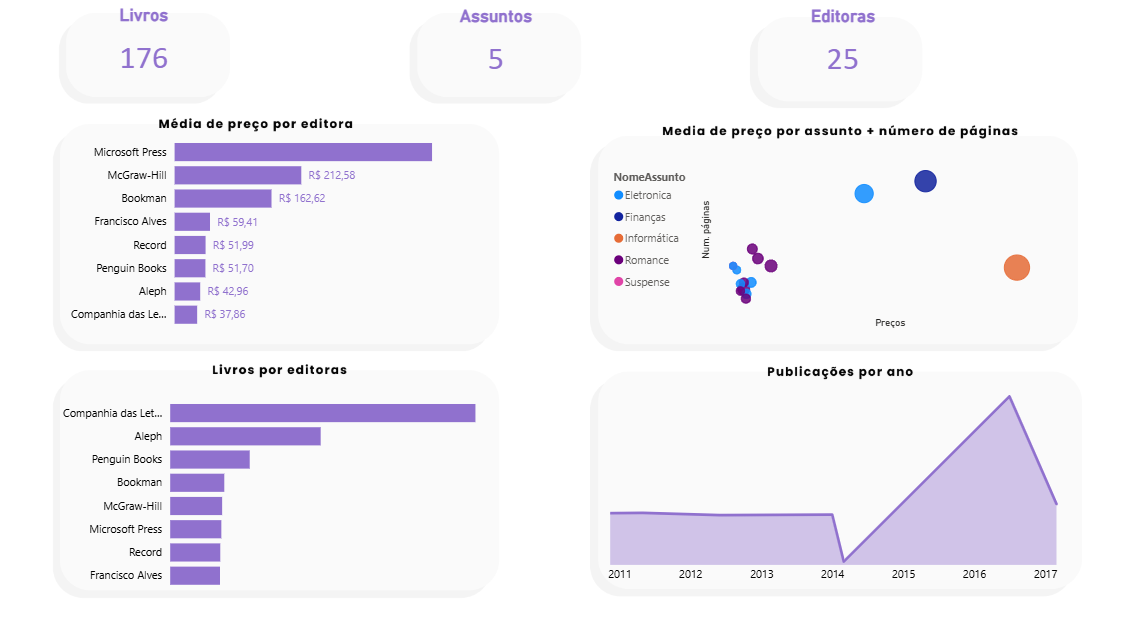

The dashboard page shown, as its layout file describes it:
{"tool":"powerbi","page":{"name":"Página 1","canvas":[1280,720],"ordinal":0},"visuals":[{"type":"barChart","fields":{"Y":["Avg(Livro.PrecoLivro)"],"Category":["Editora.NomeEditora"]},"box":[72.9,150.8,483.4,240.2],"z":0},{"type":"scatterChart","fields":{"Series":["Assunto.NomeAssunto"],"Size":["Sum(Livro.PrecoLivro)"],"X":["Livro.PrecoLivro"],"Y":["Livro.NumeroPaginas"]},"box":[681.8,150.9,510.9,227.3],"z":1000},{"type":"card","title":"Editoras","fields":{"Values":["CountNonNull(Editora.IdEditora)"]},"box":[849.2,15.8,186.7,89.2],"z":2000},{"type":"card","title":"Assuntos","fields":{"Values":["Count(Livro.IdAssunto)"]},"box":[463.3,15,186.7,90],"z":3000},{"type":"card","title":"Livros","fields":{"Values":["Min(Livro.NumeroPaginas)"]},"box":[72.7,14.5,186.4,90],"z":4000},{"type":"barChart","fields":{"Category":["Editora.NomeEditora"],"Y":["Sum(Livro.IdLivro)"]},"box":[57,434,500,240],"z":5000},{"type":"stackedAreaChart","fields":{"Category":["Livro.DataPub.Variation.Hierarquia de datas.Ano","Livro.DataPub.Variation.Hierarquia de datas.Mês"],"Y":["Sum(Livro.IdLivro)"]},"box":[676,426,522,240],"z":6000}]}

Visuals, with their boxes in screenshot pixels (x1, y1, x2, y2), scaled from the page's 1280x720 canvas onto the 1142x632 screenshot:
barChart - Avg(Livro.PrecoLivro) x Editora.NomeEditora: detection(65, 132, 496, 343)
scatterChart - Assunto.NomeAssunto x Sum(Livro.PrecoLivro): detection(608, 132, 1064, 332)
"Editoras" card: detection(758, 14, 924, 92)
"Assuntos" card: detection(413, 13, 580, 92)
"Livros" card: detection(65, 13, 231, 92)
barChart - Editora.NomeEditora x Sum(Livro.IdLivro): detection(51, 381, 497, 592)
stackedAreaChart - Livro.DataPub.Variation.Hierarquia de datas.Ano x Livro.DataPub.Variation.Hierarquia de datas.Mês: detection(603, 374, 1069, 585)
